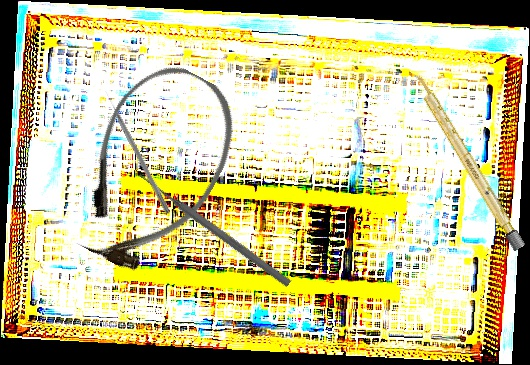Cannula: (51, 49, 256, 288)
Pusher: (135, 169, 293, 289), (103, 88, 172, 215)
Scalpel Handle: (410, 71, 526, 252)
